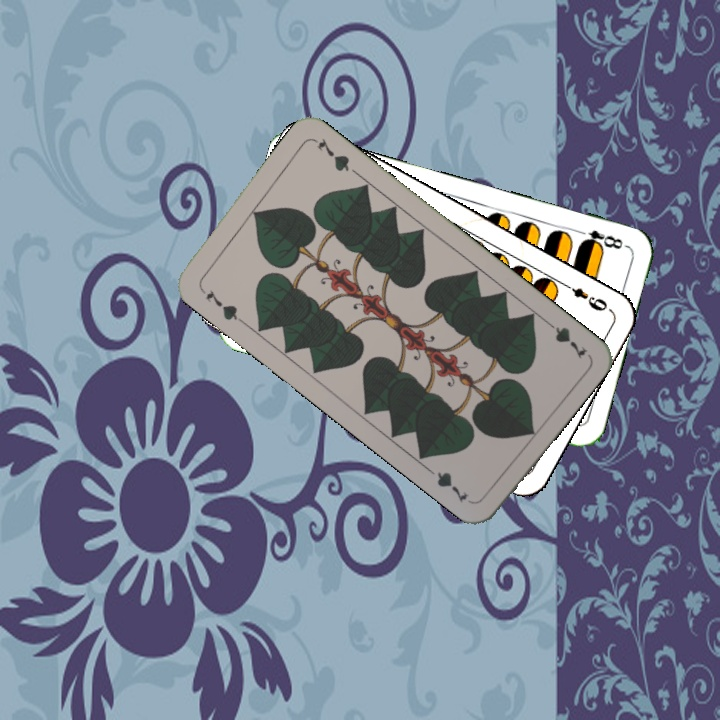E8: (572, 225, 630, 253)
E9: (558, 278, 613, 314)
G7: (540, 315, 590, 362), (196, 282, 246, 325)
